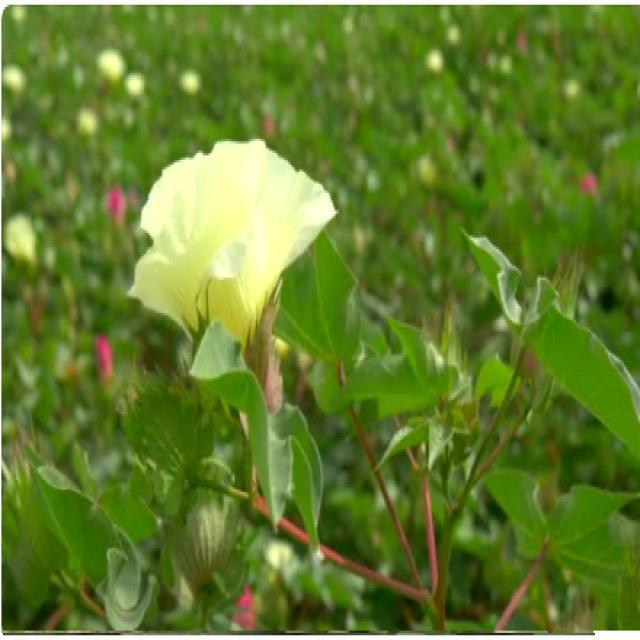Cotton Blossom: (136, 143, 334, 410)
Cotton Bud: (161, 461, 247, 605)
